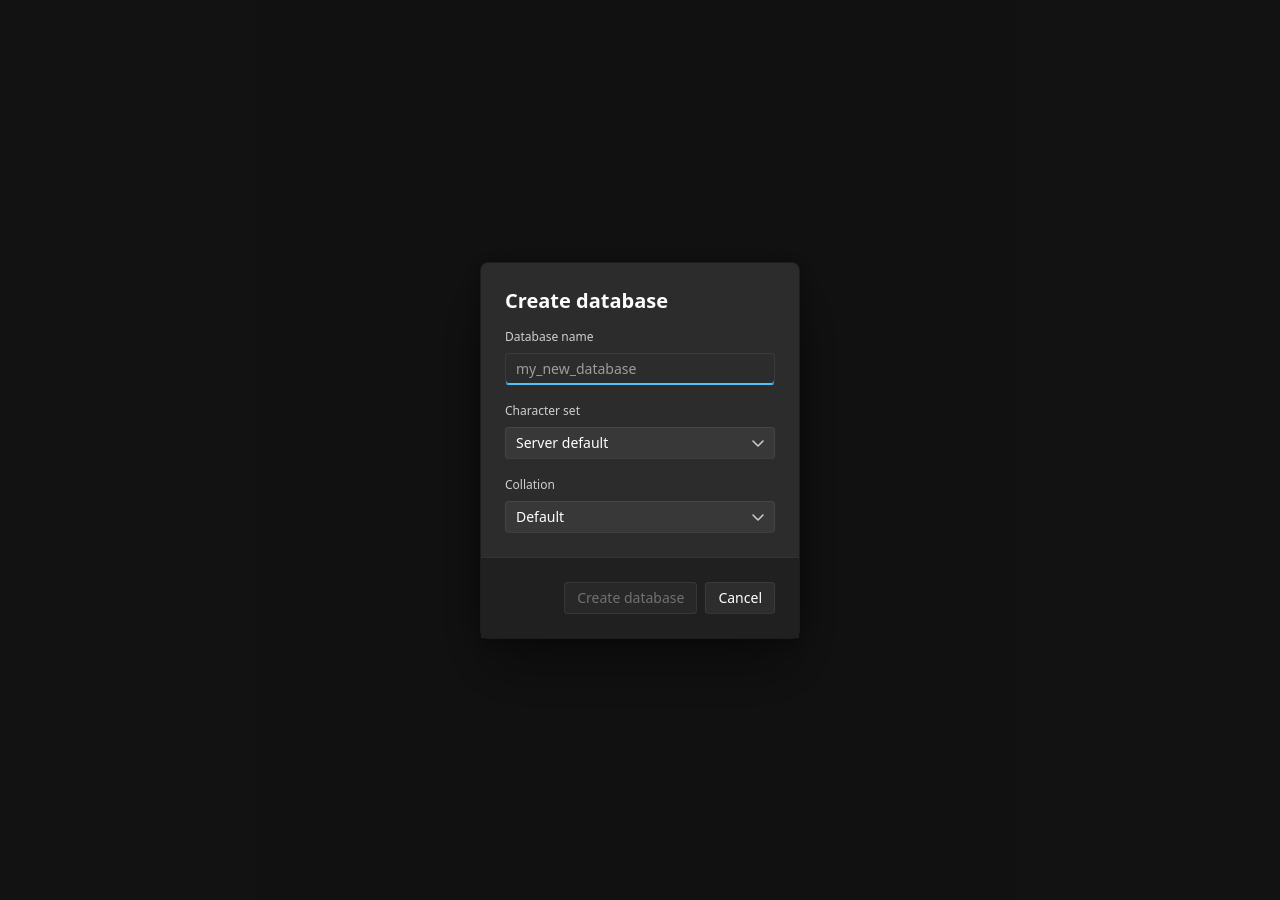
CreateDatabaseDialog › confirm button enabled when name is typed
This screenshot has width=1280, height=900.
In the field with test id "create-db-name-input": (640, 368) x1=505 y1=352 x2=775 y2=384, type "test_db"
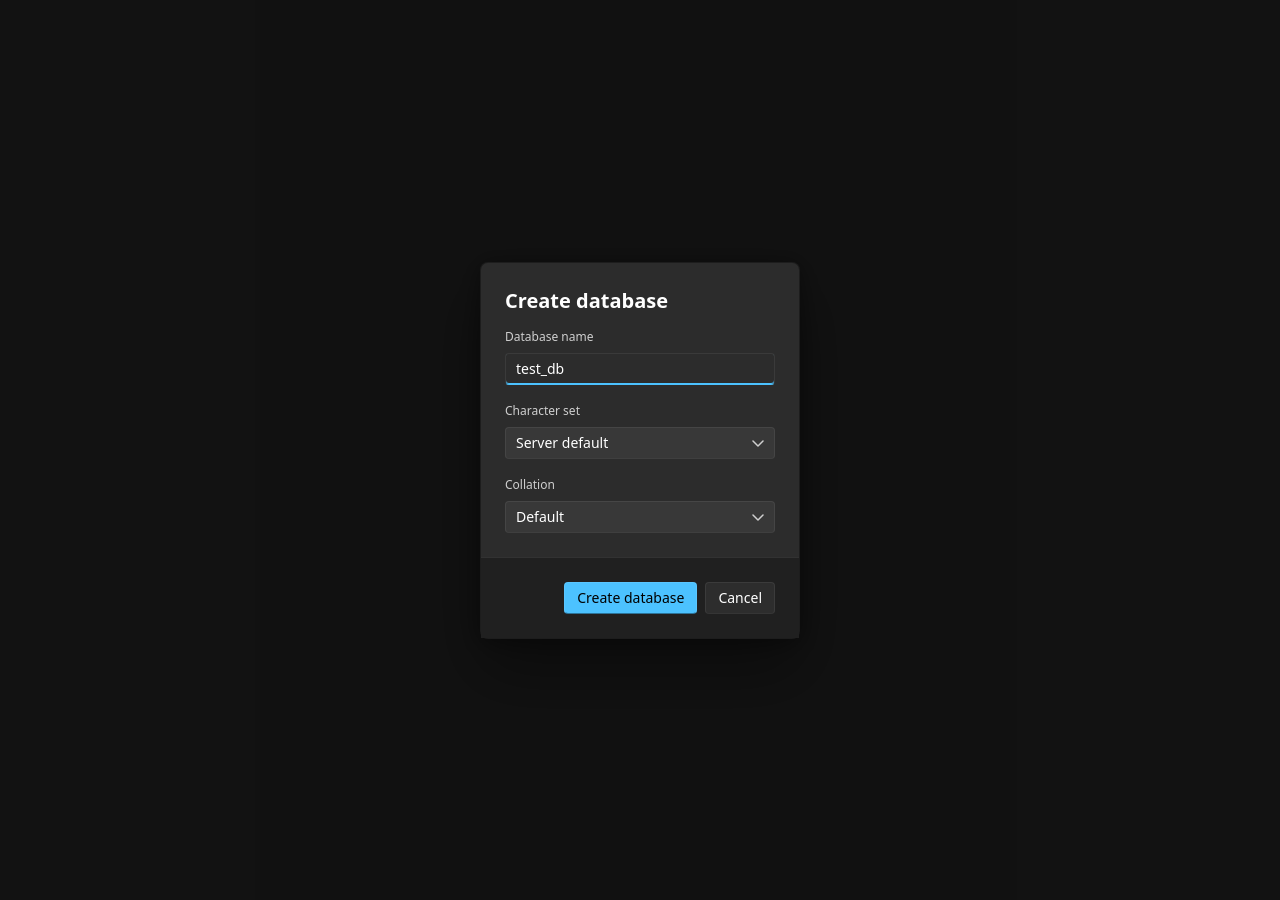
Expected: the button with test id "create-db-submit-button" is enabled, x1=564 y1=582 x2=697 y2=614
